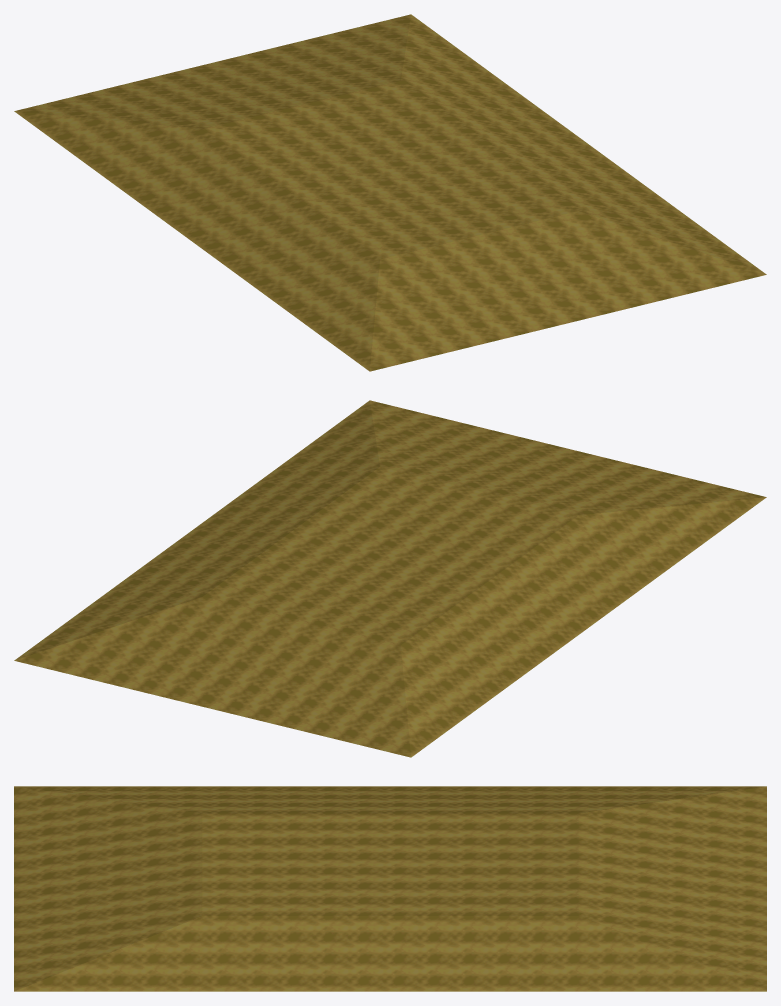
File: CombatHall.fbx
3 renders of one model, top to bottom at view 1: azimuth 30°, elevation 25°; view 2: azimuth 150°, elevation 25°; view 3: azimuth 270°, elevation 25°, orthographic. The views are drawn at different scales.
Visible parts, largest first — view 1: geom86_obj; view 2: geom86_obj; view 3: geom86_obj.
Boxes of the visible parts, x1,y1,x2,y2 form: geom86_obj: [14, 14, 766, 371]; geom86_obj: [14, 400, 766, 757]; geom86_obj: [14, 786, 766, 991].
Size of the model in its own units: 45395 by 3330 by 70438.
